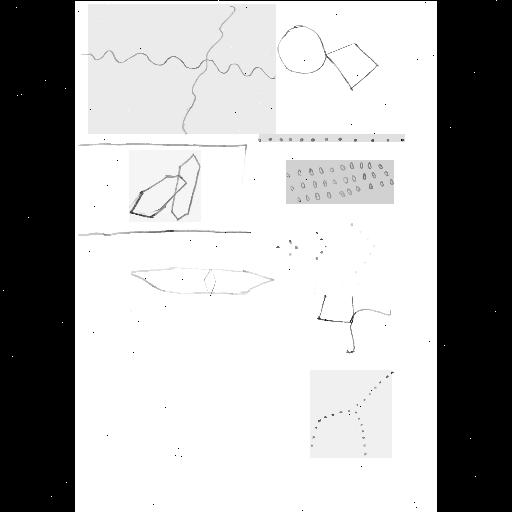shape-1: (276, 22, 380, 88)
shape-2: (259, 134, 405, 142)
shape-3: (286, 160, 394, 204)
shape-4: (274, 222, 376, 274)
shape-5: (318, 292, 390, 352)
shape-6: (310, 370, 392, 458)
shape-7: (88, 4, 276, 134)
shape-8: (129, 150, 201, 222)
shape-9: (130, 266, 274, 294)
